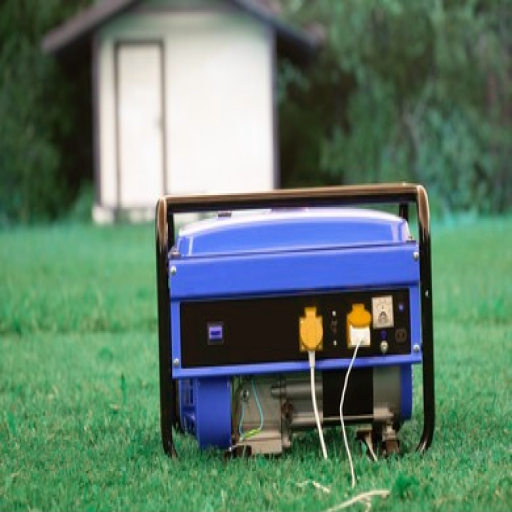portable_generator: (154, 182, 436, 462)
